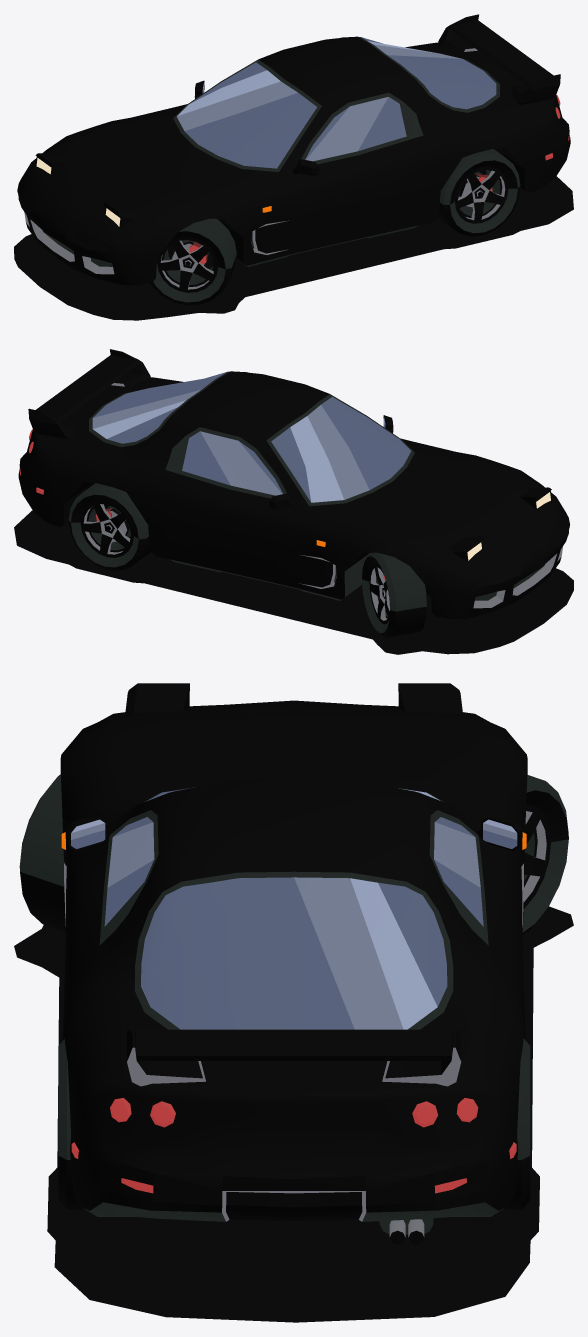
The model's file is LPRX7.fbx.
The picture shows the model from 3 angles, top to bottom: view 1: azimuth 30°, elevation 25°; view 2: azimuth 150°, elevation 25°; view 3: azimuth 270°, elevation 25°; orthographic projection. The views are drawn at different scales.
Parts seen in each view (by area): view 1: Low Poly Rx7, Floor; view 2: Low Poly Rx7, Floor; view 3: Low Poly Rx7, Floor.
Boxes of the visible parts, bbox=[...] form: Low Poly Rx7: bbox=[17, 14, 570, 305]; Floor: bbox=[14, 176, 573, 320]; Low Poly Rx7: bbox=[18, 349, 569, 637]; Floor: bbox=[14, 510, 573, 654]; Low Poly Rx7: bbox=[19, 683, 568, 1244]; Floor: bbox=[14, 906, 573, 1322].
Bounding box in the file's own units: 586 × 173 × 287.
